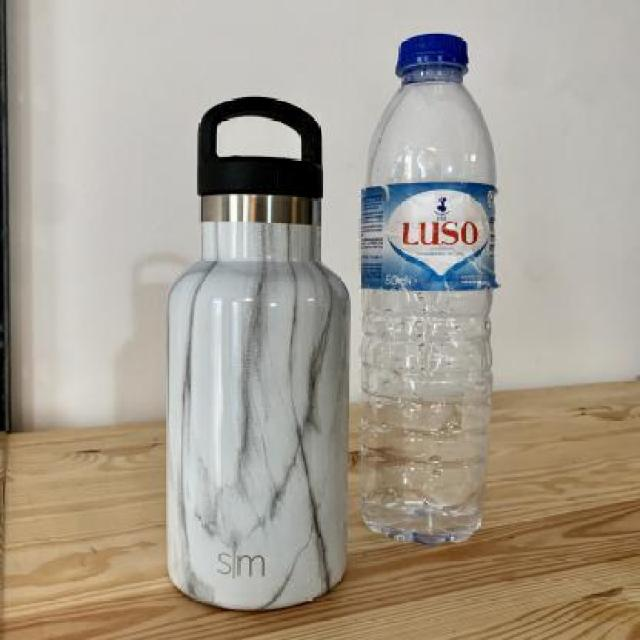bottle: (358, 0, 488, 520)
